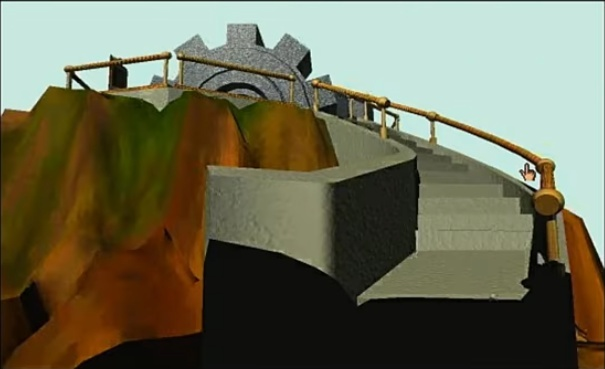Pointer: (517, 159, 541, 187)
